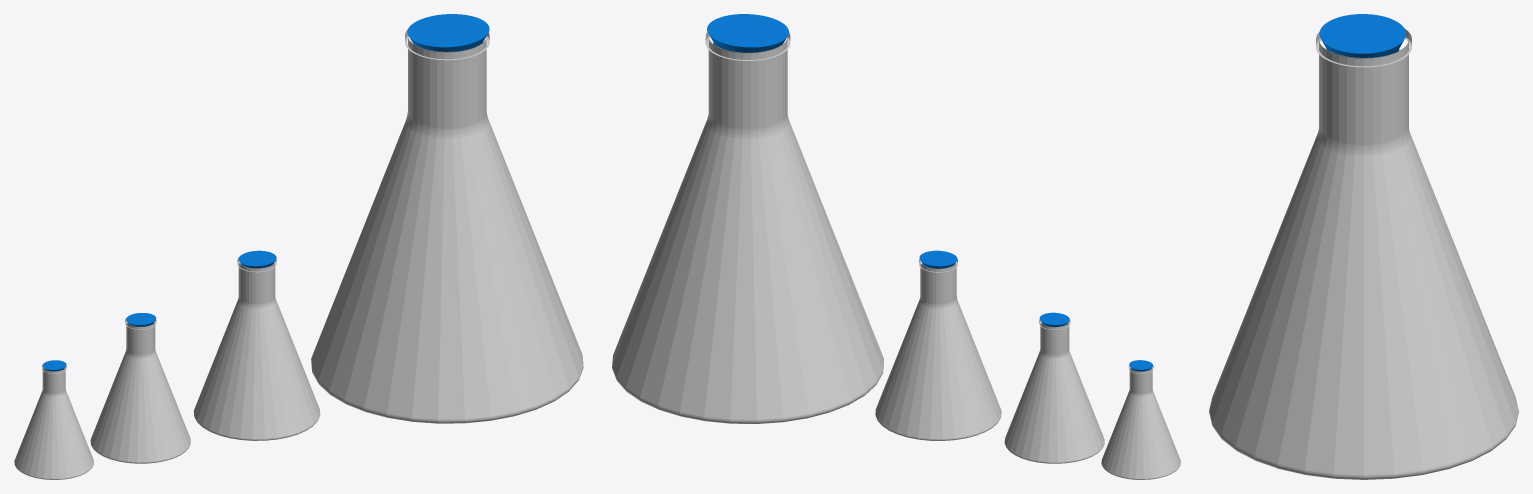
The picture shows the model from 3 angles, left to right: view 1: azimuth 30°, elevation 25°; view 2: azimuth 150°, elevation 25°; view 3: azimuth 270°, elevation 25°; orthographic projection. The views are drawn at different scales.
Visible parts, largest first — view 1: 1000ml, 100ml, 50ml, 25ml, stopper1000; view 2: 1000ml, 100ml, 50ml, 25ml, stopper1000; view 3: 1000ml, stopper1000.
Boxes of the visible parts, box(x1,y1,x2,y2) form: 1000ml: box(311, 29, 583, 423); 100ml: box(193, 258, 320, 440); 50ml: box(90, 319, 190, 463); 25ml: box(14, 365, 93, 479); stopper1000: box(407, 14, 489, 51); 1000ml: box(612, 32, 883, 423); 100ml: box(875, 259, 1001, 440); 50ml: box(1004, 319, 1104, 463); 25ml: box(1101, 365, 1180, 479); stopper1000: box(707, 14, 788, 52); 1000ml: box(1209, 28, 1518, 479); stopper1000: box(1319, 14, 1406, 58).
Bounding box in the file's own units: 0.6155 × 0.3642 × 0.2665.
